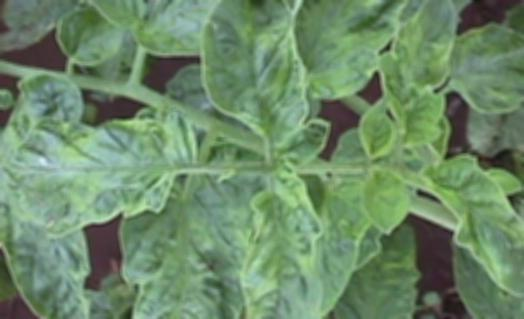Tomato leaf mosaic virus: (12, 115, 191, 234), (202, 0, 310, 154), (424, 157, 524, 311), (299, 0, 432, 106), (236, 177, 326, 319), (383, 0, 456, 147), (139, 211, 225, 319), (448, 27, 524, 113), (362, 165, 412, 236), (90, 0, 148, 28)
